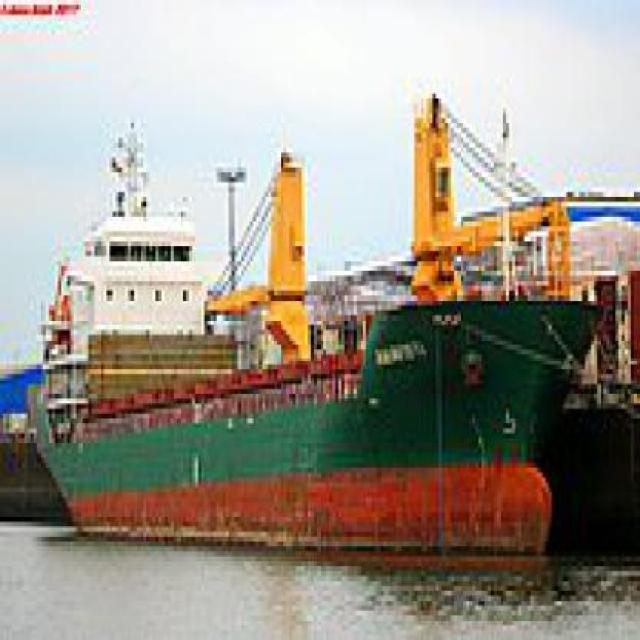container: (16, 104, 608, 572)
